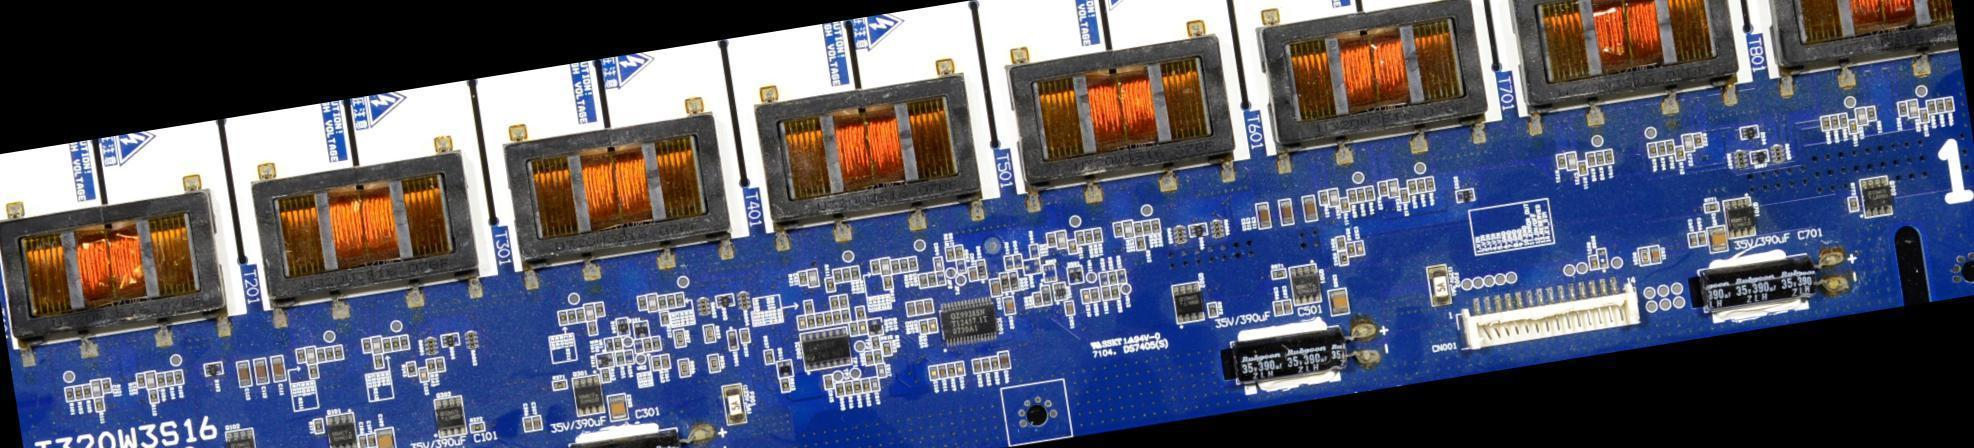Capacitor: (1328, 288, 1349, 314), (1708, 226, 1728, 252), (608, 394, 627, 420), (375, 428, 395, 447), (1256, 202, 1271, 227), (1279, 199, 1293, 224), (1303, 196, 1316, 221), (271, 357, 284, 380), (254, 358, 266, 382), (239, 362, 251, 387), (583, 303, 595, 321), (1906, 99, 1918, 117), (1683, 134, 1694, 152), (806, 270, 818, 287), (1856, 107, 1867, 125), (647, 295, 658, 311), (880, 258, 891, 274), (1122, 221, 1133, 238), (1328, 188, 1338, 205), (1650, 245, 1661, 263), (990, 279, 1001, 295), (91, 380, 101, 397), (372, 337, 382, 353), (1388, 180, 1399, 196), (1567, 153, 1577, 170), (1055, 231, 1065, 247), (1003, 297, 1014, 312), (999, 352, 1008, 369), (1696, 232, 1707, 244), (937, 364, 947, 378), (971, 359, 981, 373), (307, 346, 316, 361), (147, 371, 155, 388), (935, 271, 944, 284), (968, 266, 977, 280), (740, 329, 749, 342), (915, 301, 924, 315), (1355, 241, 1364, 255), (858, 320, 867, 334), (1065, 301, 1074, 314), (955, 361, 964, 375), (358, 435, 368, 447), (877, 363, 885, 377), (824, 375, 832, 390), (661, 355, 670, 368), (1081, 289, 1090, 302), (928, 319, 937, 331), (1688, 233, 1697, 246), (531, 416, 540, 429), (929, 366, 938, 379), (982, 358, 991, 370), (419, 368, 427, 381), (924, 300, 932, 313), (956, 260, 964, 272), (366, 434, 375, 446), (524, 419, 532, 431), (934, 257, 942, 269), (798, 316, 806, 329), (906, 302, 914, 314), (1274, 302, 1282, 314), (1283, 300, 1291, 312), (870, 377, 878, 390)
Resistor: (552, 379, 568, 390), (72, 385, 82, 401), (557, 310, 566, 326), (704, 325, 714, 341), (651, 355, 661, 371), (1639, 248, 1649, 264), (650, 337, 661, 351), (172, 369, 183, 384), (567, 308, 576, 323), (1113, 222, 1123, 237), (1556, 154, 1566, 169), (1603, 149, 1613, 163), (1577, 160, 1587, 175), (373, 353, 383, 369), (425, 358, 435, 373), (406, 362, 415, 377), (601, 367, 610, 383), (1272, 268, 1286, 278), (135, 371, 143, 388), (636, 294, 645, 311), (595, 302, 604, 318), (399, 334, 408, 350), (390, 335, 399, 351), (313, 416, 322, 433), (945, 247, 955, 260), (333, 344, 344, 358), (797, 271, 807, 284), (1046, 232, 1056, 246), (1091, 228, 1102, 242), (1594, 151, 1604, 165), (1340, 198, 1350, 212), (1012, 254, 1022, 268), (1003, 256, 1013, 269), (659, 311, 668, 325), (1135, 237, 1145, 251), (1116, 269, 1125, 283), (1336, 237, 1346, 250), (849, 321, 858, 335), (1338, 252, 1348, 265), (873, 349, 882, 363), (1207, 302, 1217, 316), (470, 422, 484, 432), (361, 338, 370, 353), (325, 346, 334, 361), (576, 308, 585, 323), (1030, 244, 1039, 259), (95, 397, 103, 411), (435, 357, 445, 373), (675, 330, 684, 345), (919, 319, 928, 333), (679, 360, 688, 375), (709, 355, 718, 370), (1364, 186, 1373, 199), (1647, 143, 1657, 156), (1656, 141, 1665, 154), (1586, 152, 1596, 165), (613, 339, 623, 351), (815, 313, 824, 326), (296, 348, 305, 362), (954, 245, 963, 259), (81, 383, 89, 397), (316, 347, 325, 361), (382, 338, 390, 352), (870, 261, 879, 274), (1084, 229, 1093, 243), (1077, 231, 1085, 245), (1692, 133, 1701, 147), (1898, 102, 1907, 116), (1356, 188, 1365, 201), (825, 278, 834, 292), (1068, 239, 1077, 253), (1918, 109, 1927, 123), (148, 389, 157, 403), (587, 321, 596, 335), (884, 276, 893, 289), (605, 337, 614, 351), (1108, 271, 1117, 285), (1110, 286, 1119, 299), (1100, 287, 1109, 301), (1704, 202, 1718, 211), (780, 378, 789, 391), (947, 363, 955, 376), (65, 386, 73, 402), (165, 371, 173, 386), (158, 373, 166, 387), (1135, 222, 1143, 236), (804, 300, 812, 314), (805, 314, 815, 326), (1319, 191, 1328, 204), (666, 294, 675, 307), (1378, 181, 1387, 194), (891, 260, 900, 273), (907, 258, 915, 270), (851, 267, 860, 279), (1151, 220, 1159, 233), (1424, 177, 1433, 190), (1822, 117, 1830, 129), (1944, 98, 1953, 111), (1675, 147, 1683, 160), (1848, 121, 1857, 133), (927, 272, 935, 285), (918, 275, 926, 288), (838, 296, 847, 308), (615, 353, 624, 366), (1033, 292, 1042, 304), (865, 352, 874, 365), (1848, 197, 1857, 210), (1589, 256, 1598, 268), (990, 356, 998, 369), (844, 381, 852, 394), (860, 379, 869, 391), (103, 379, 111, 393), (658, 296, 666, 309), (1348, 188, 1356, 201), (1416, 179, 1424, 192), (1830, 115, 1838, 128), (1935, 98, 1943, 112), (1400, 189, 1407, 203), (643, 338, 651, 352), (1347, 242, 1355, 256), (1090, 287, 1098, 301), (675, 293, 683, 305), (308, 366, 317, 378), (625, 351, 633, 363), (882, 343, 891, 355), (853, 381, 862, 393), (900, 258, 908, 271), (842, 268, 850, 281), (833, 270, 841, 283), (1143, 221, 1151, 234), (1867, 107, 1875, 120), (1665, 141, 1673, 153), (1839, 114, 1847, 127), (1927, 100, 1935, 112), (831, 297, 839, 310), (841, 310, 849, 322), (832, 311, 840, 323), (824, 312, 832, 325), (856, 308, 864, 321), (1099, 272, 1107, 285), (871, 336, 879, 349), (836, 383, 844, 395), (1409, 181, 1416, 192), (765, 351, 772, 364)
